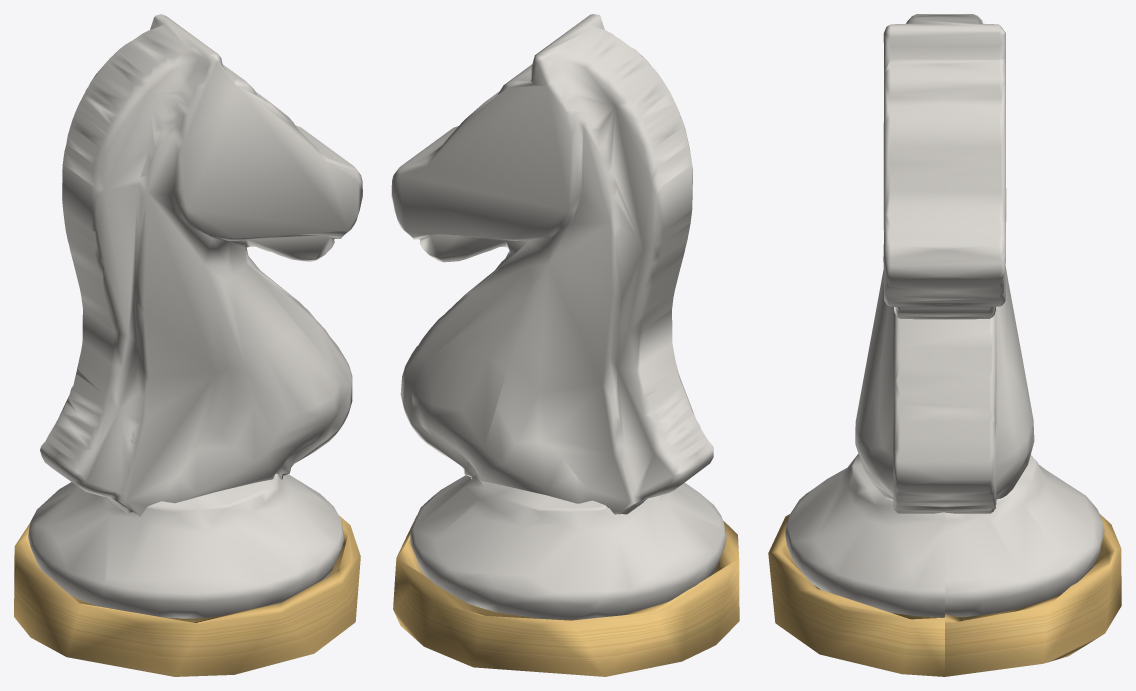
The model's file is aurum_knight_white.glb.
3 views of the same model, side by side, from view 1: azimuth 30°, elevation 25°; view 2: azimuth 150°, elevation 25°; view 3: azimuth 270°, elevation 25° (orthographic).
Visible parts, largest first — view 1: Aurum Ivoire – Knight; view 2: Aurum Ivoire – Knight; view 3: Aurum Ivoire – Knight.
Part boxes in pixels (x1,y1,x2,y2): Aurum Ivoire – Knight: (14,14,362,676); Aurum Ivoire – Knight: (391,14,739,676); Aurum Ivoire – Knight: (768,14,1121,676).
Size of the model in its own units: 0.0416 by 0.0749 by 0.0415.
Materials: 2 (1 with a texture image).
